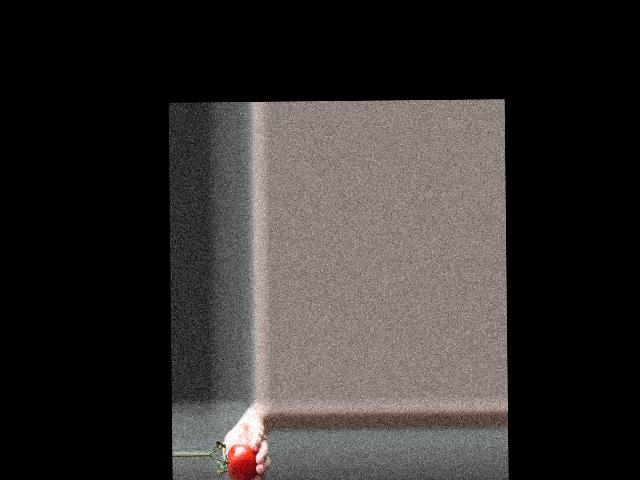tomato: (226, 443, 257, 480)
